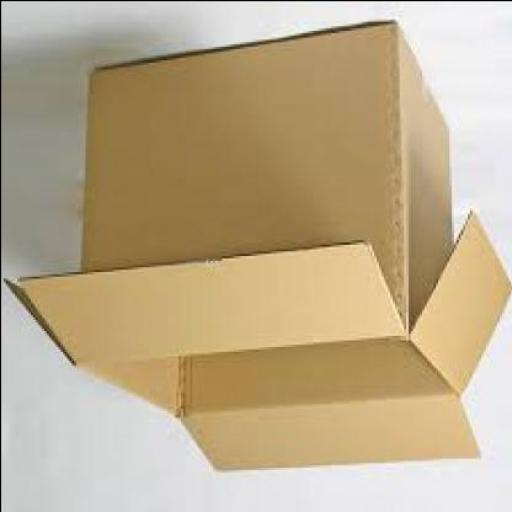cardboard: (6, 25, 511, 475), (82, 22, 409, 335), (22, 239, 412, 367), (182, 394, 483, 472), (411, 213, 511, 397)
